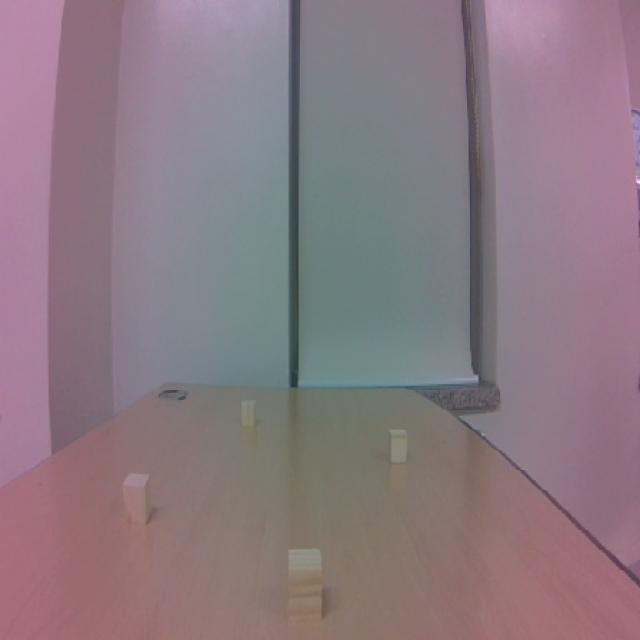obstacle: (276, 543, 334, 626), (116, 468, 161, 532), (235, 391, 268, 436), (384, 424, 418, 466)
